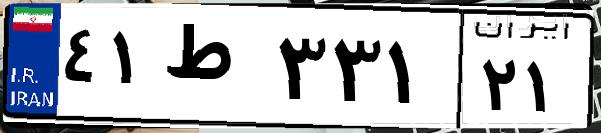1: (385, 28, 445, 110), (525, 38, 570, 115), (110, 28, 158, 98)
2: (475, 38, 525, 113)
3: (270, 28, 330, 110), (330, 28, 385, 110)
4: (57, 26, 110, 100)
ط: (158, 20, 270, 120)
